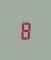eight: (19, 20, 30, 39)
